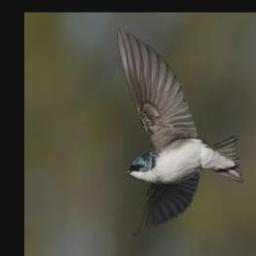Swallow: (115, 28, 242, 236)
